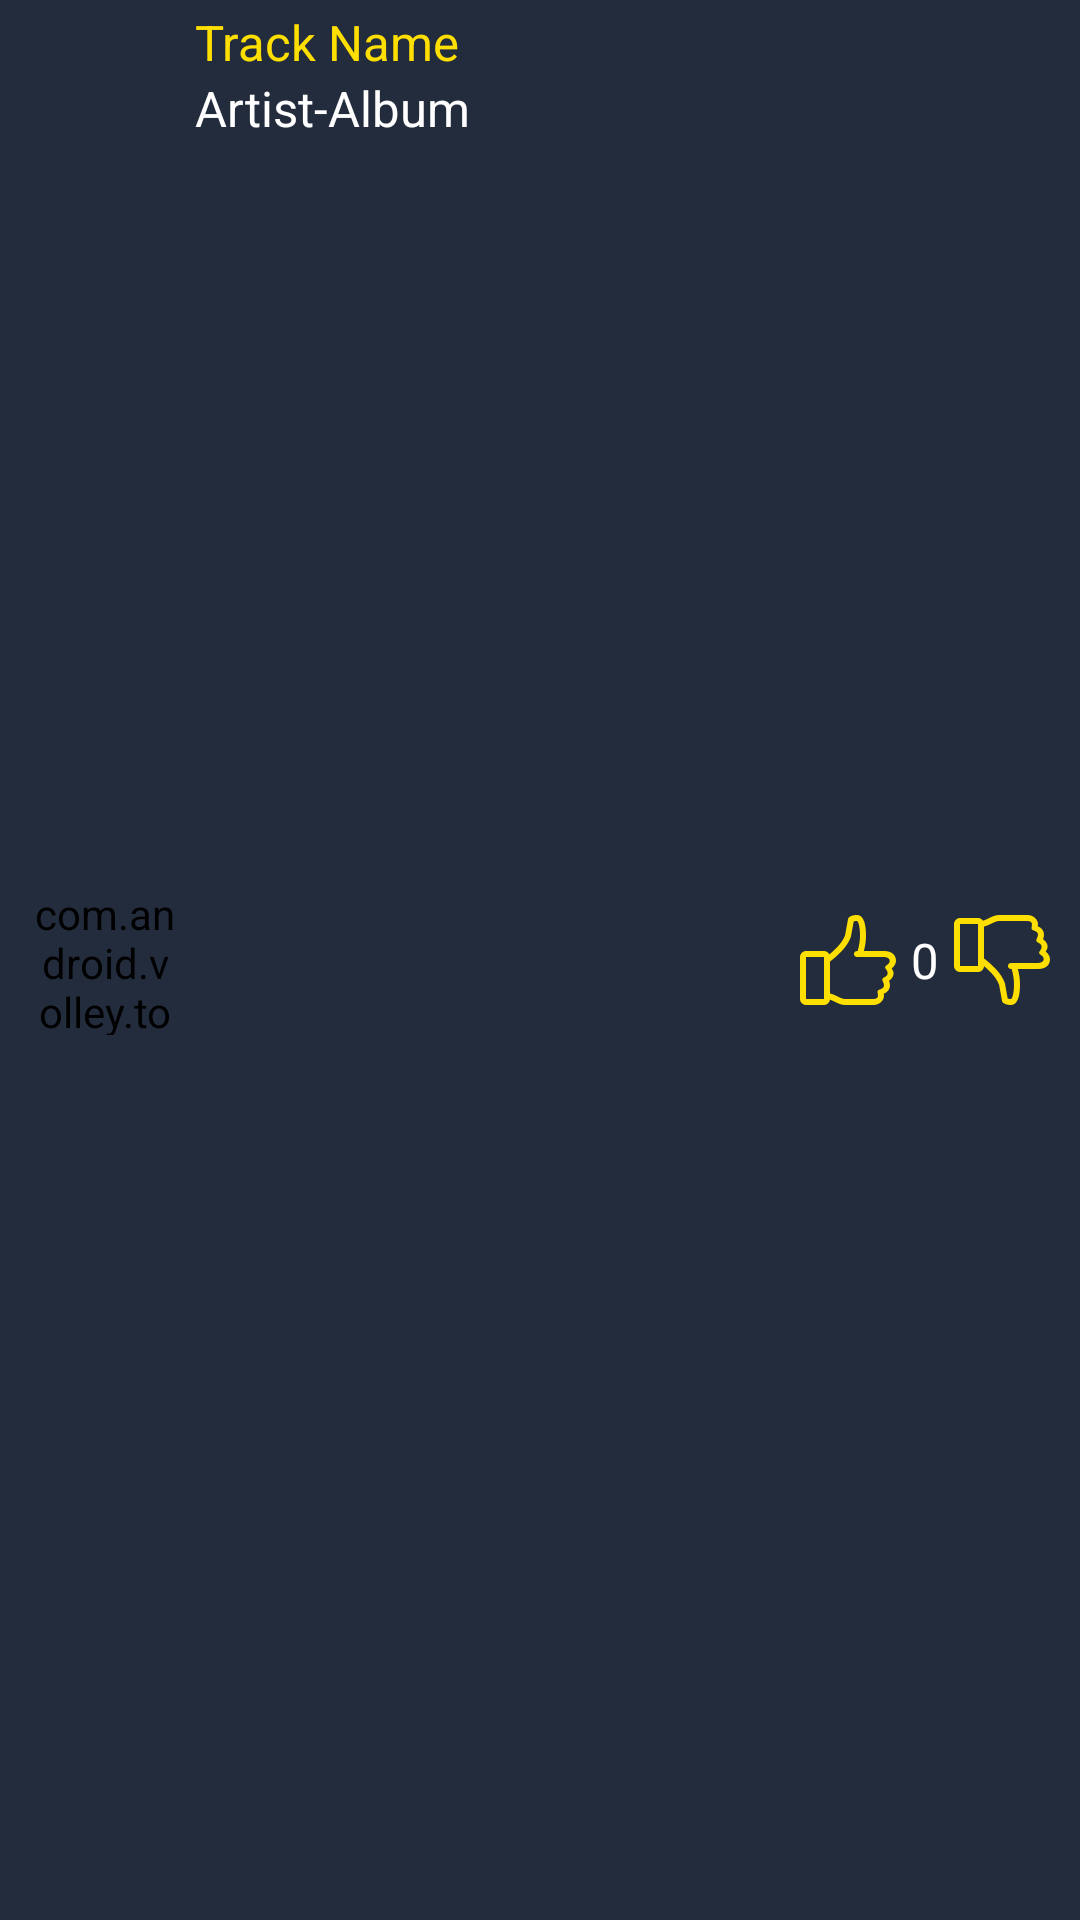

Icon click points for this 1080x1920 phone screenshot, format point (x, y):
dislike off: point (1002, 960)
like off: point (848, 960)
